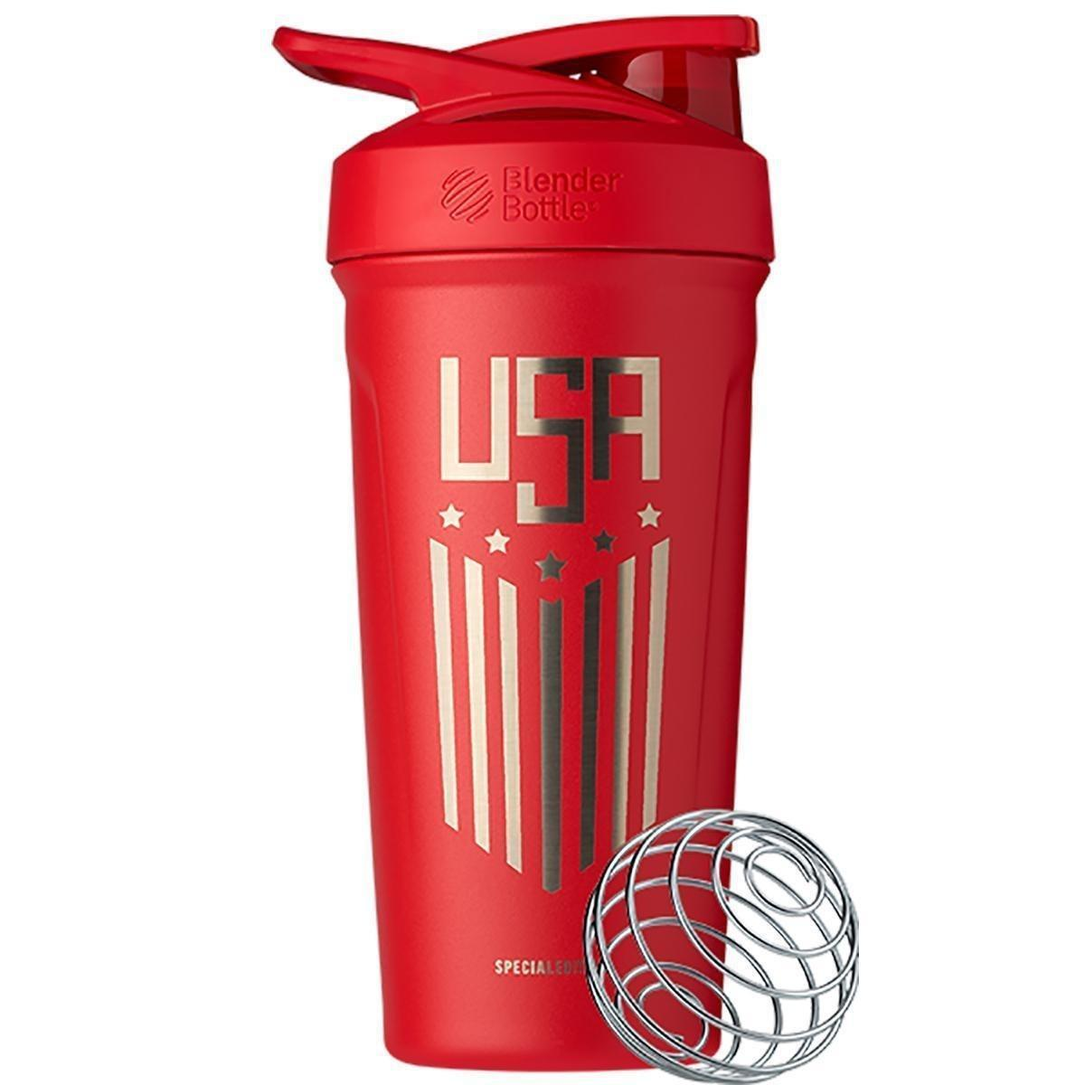gym bottle: (259, 5, 792, 1084)
